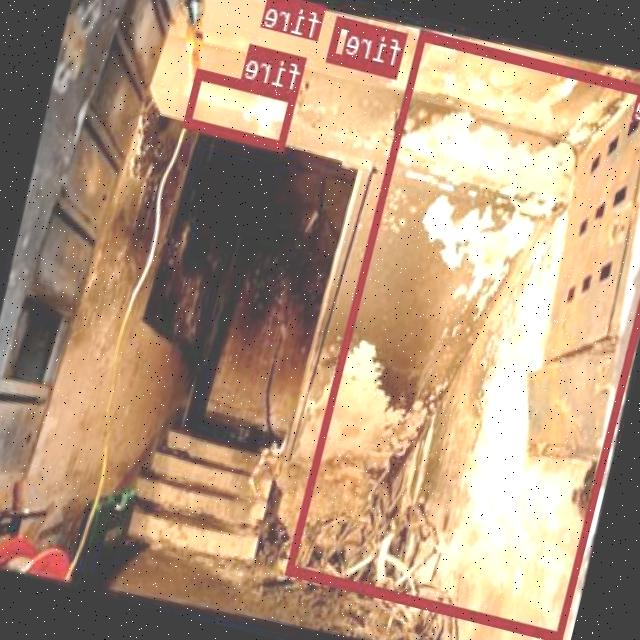fire: (287, 29, 640, 640), (184, 66, 298, 150), (328, 14, 410, 76), (290, 0, 327, 25)
